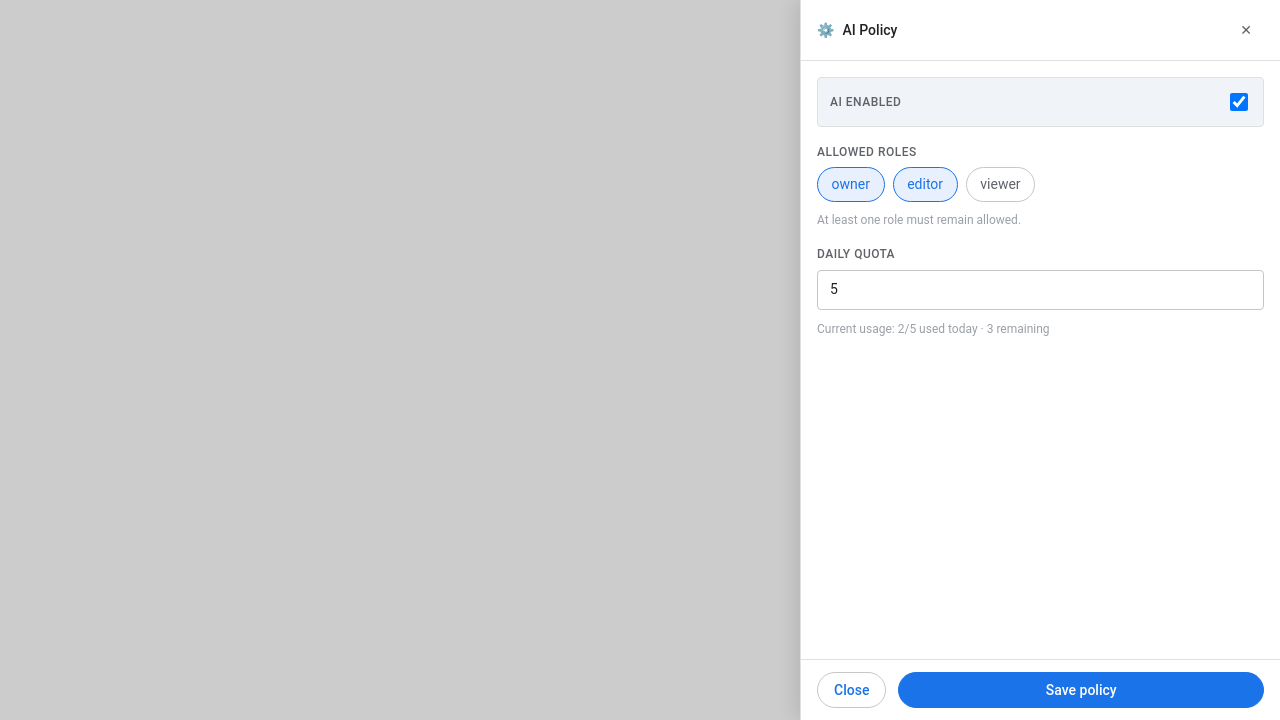
Scenario: management panels › loads and saves AI policy
The width and height of the screenshot is (1280, 720).
Expected: the number field showing "5" is shown, [817,270,1264,310]
Click the button "viewer" at (1000, 184), box [966,167,1035,202]
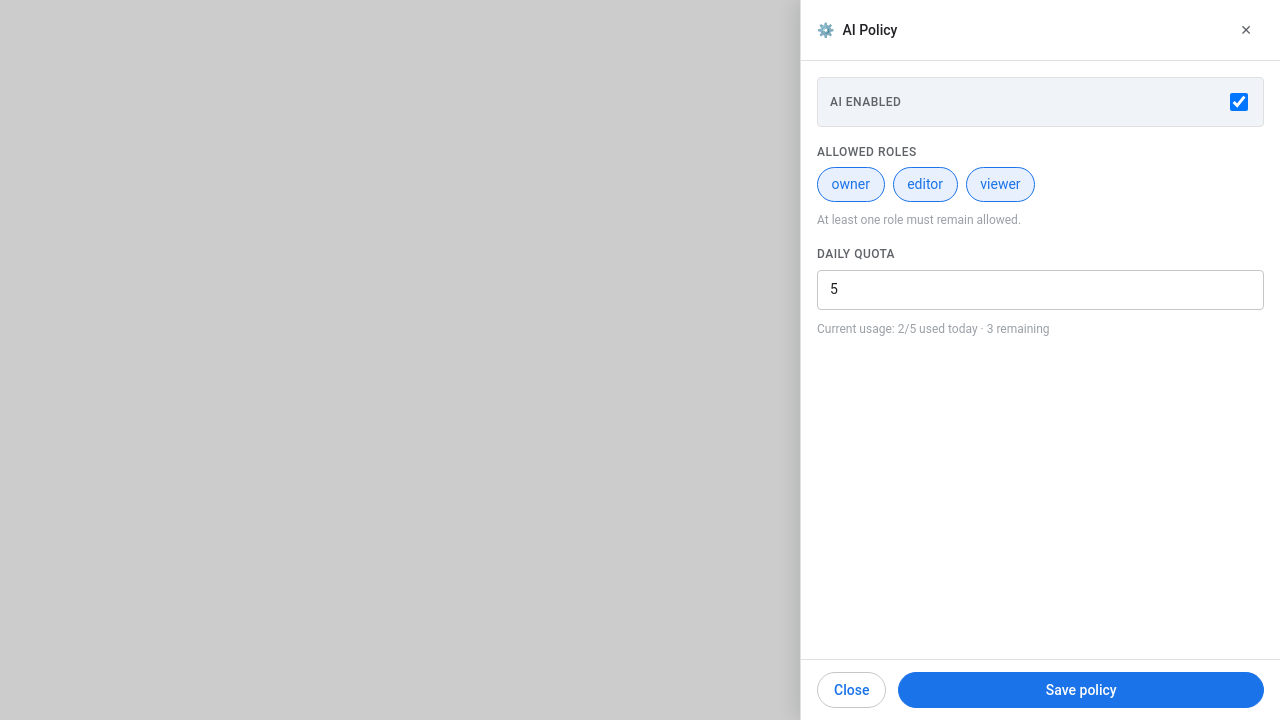
Replace the text in the number field labelled "Daily quota" with "9" at (1040, 290), box [817,270,1264,310]
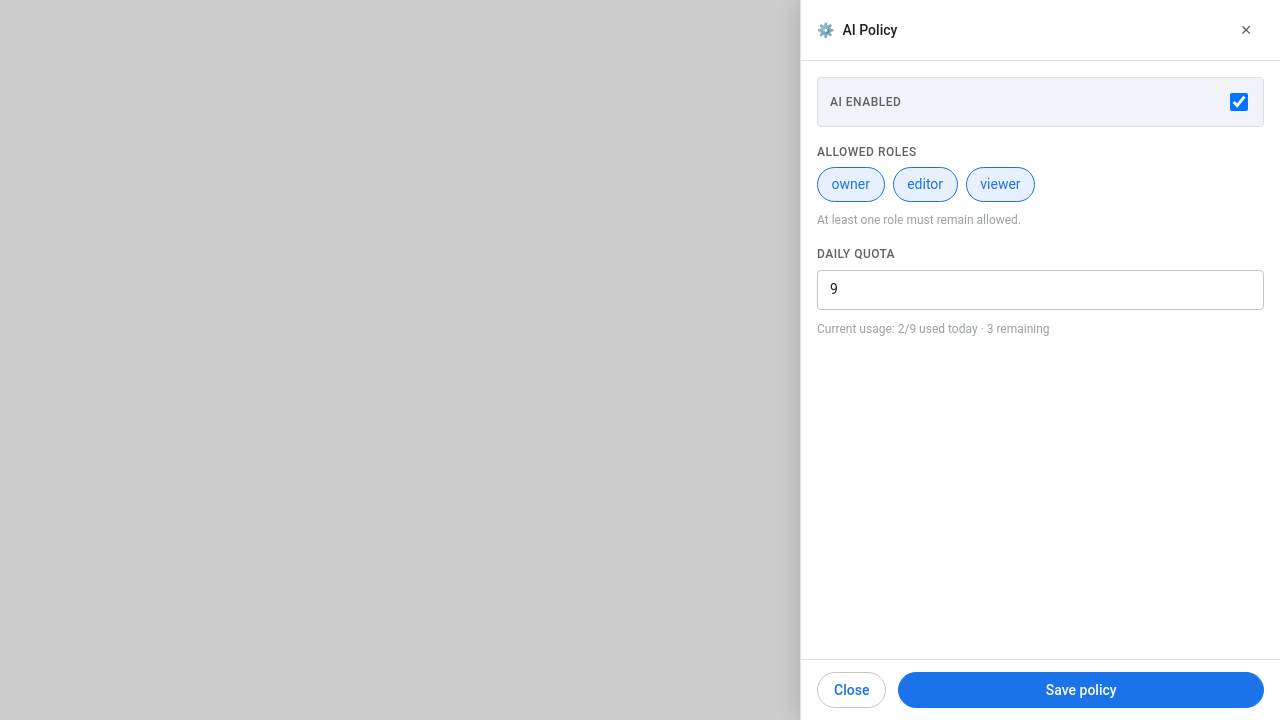
Click the button "Save policy" at (1081, 690), box [898,672,1264,708]
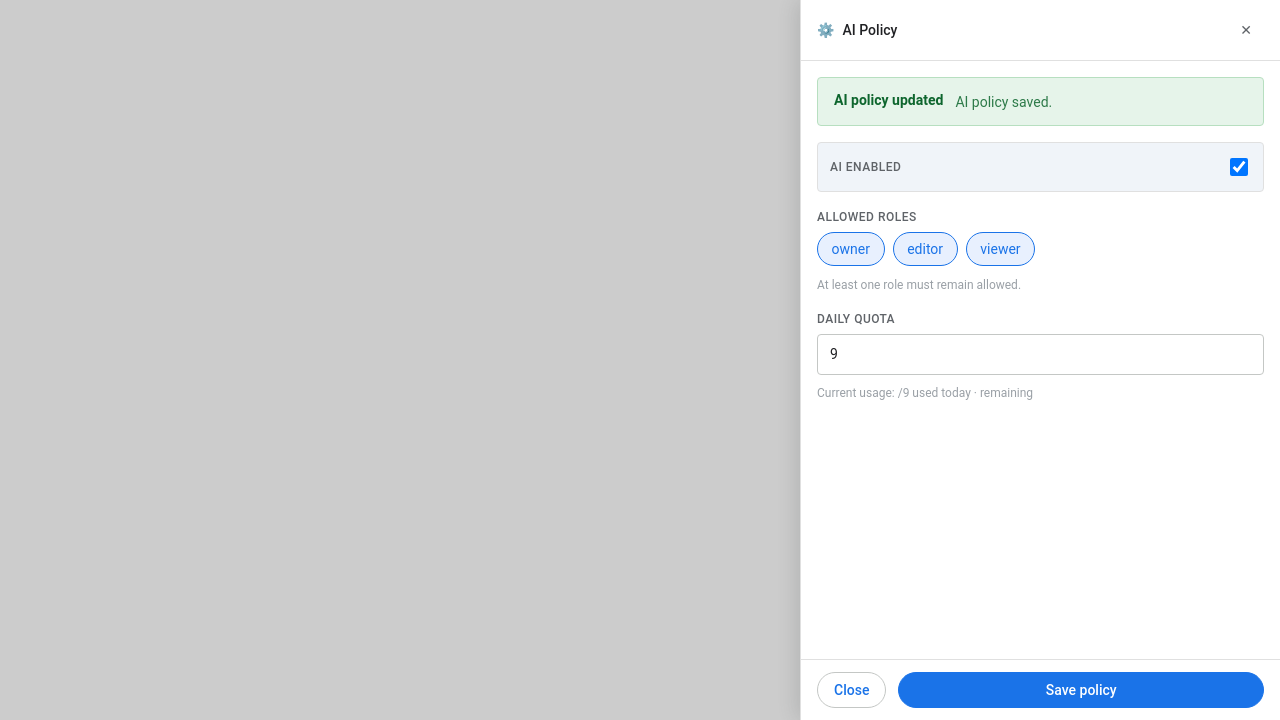
Now the text "AI policy saved." is shown, box [955,92,1052,113]
